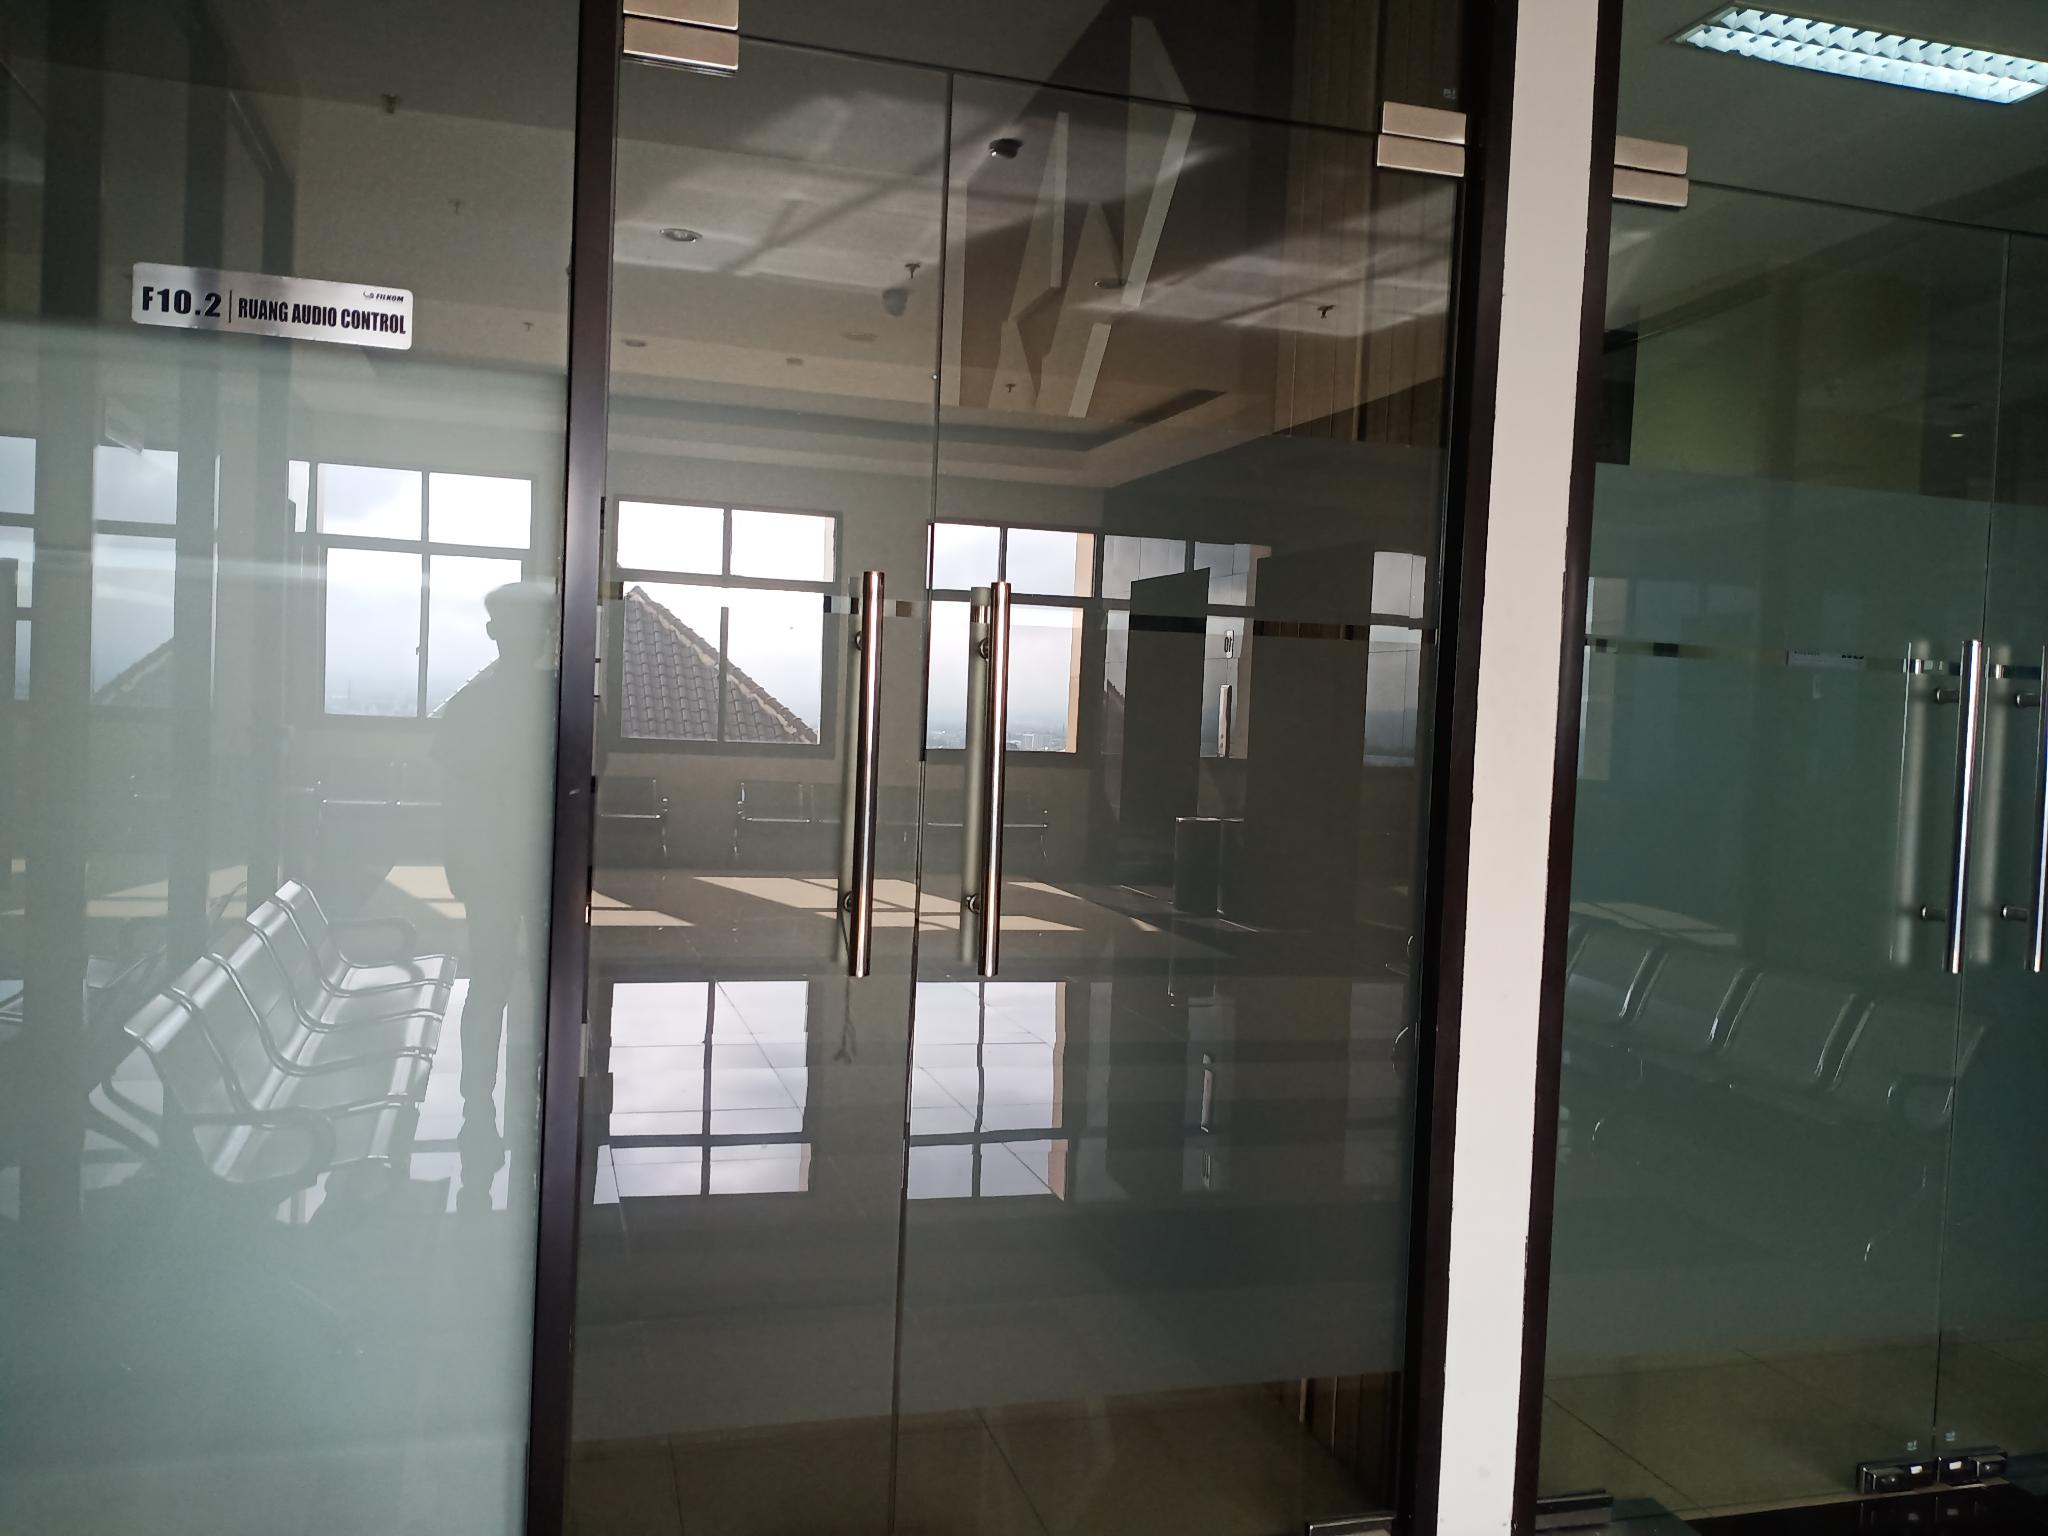plate: (127, 258, 418, 356)
